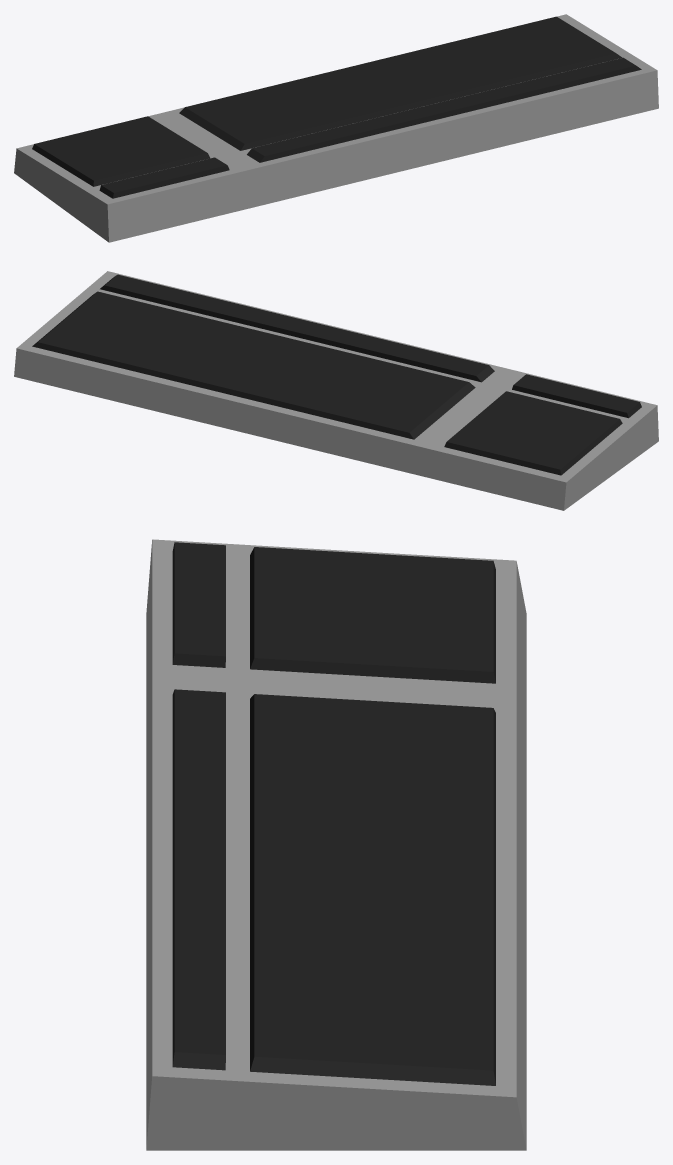
Rendered from keyboard.gltf.
3 renders of one model, top to bottom at view 1: azimuth 30°, elevation 25°; view 2: azimuth 150°, elevation 25°; view 3: azimuth 270°, elevation 25°, orthographic. The views are drawn at different scales.
Parts seen in each view (by area): view 1: keyboard; view 2: keyboard; view 3: keyboard.
Boxes of the visible parts, x1,y1,x2,y2 form: keyboard: (14,14,658,242); keyboard: (14,271,658,510); keyboard: (146,539,526,1150).
Size of the model in its own units: 0.4777 by 0.0345 by 0.143.
1 material, 1 textured.
